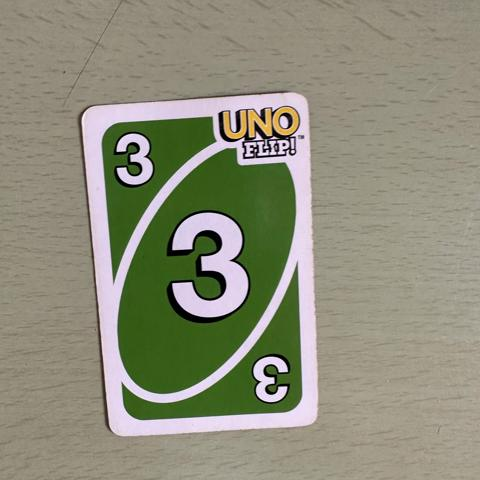9_yellow: (167, 209, 251, 324), (111, 132, 156, 187), (248, 353, 290, 404)
